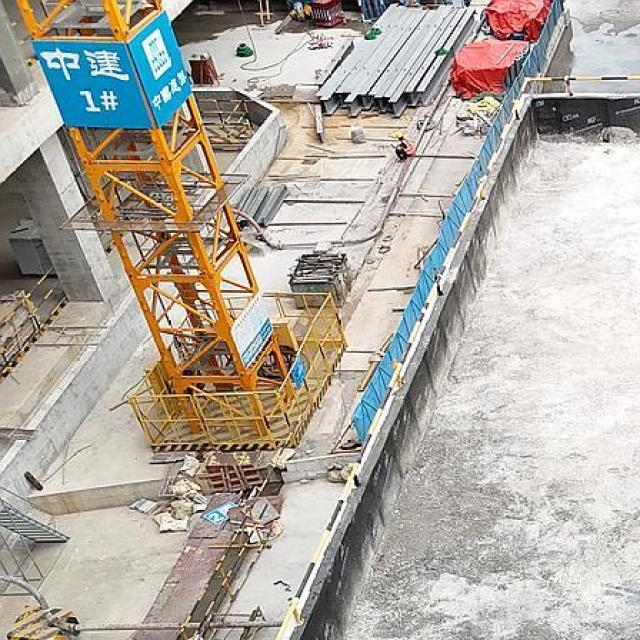edge_guardrail: (270, 74, 640, 640), (0, 265, 69, 378)
